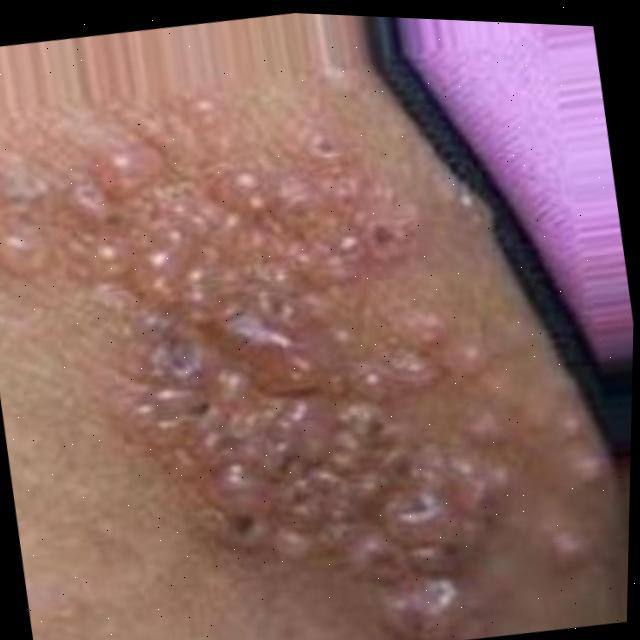Shingles: (0, 89, 583, 640)
